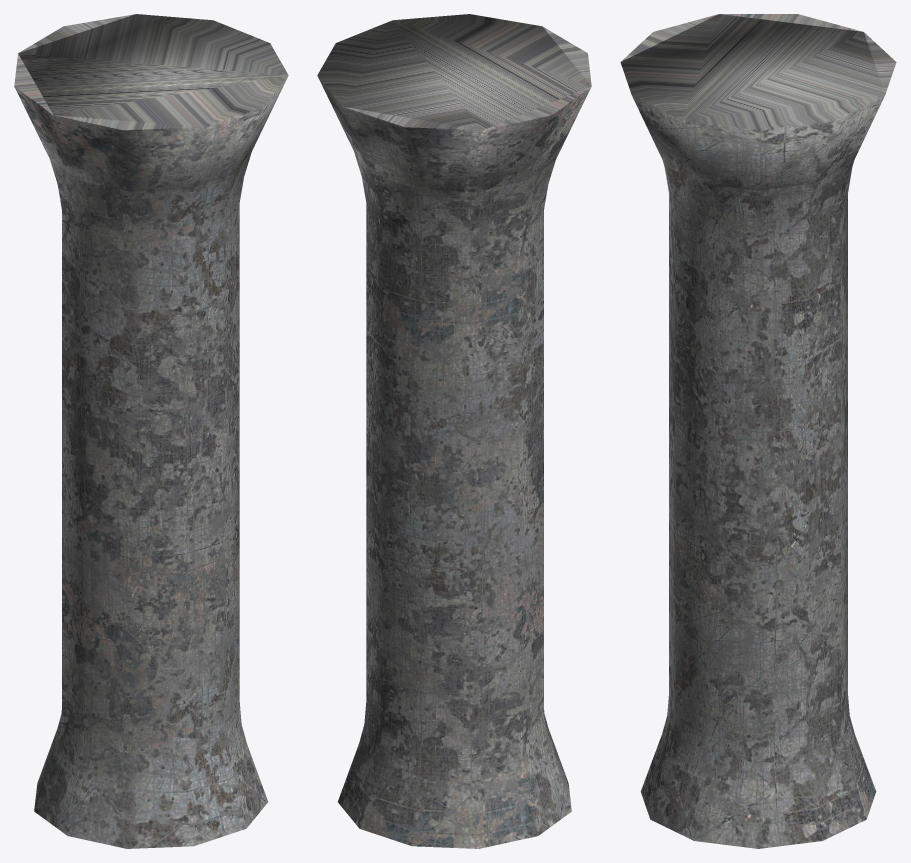
Rendered from Small Industrial Pillar.FBX.
The picture shows the model from 3 angles, left to right: view 1: azimuth 30°, elevation 25°; view 2: azimuth 150°, elevation 25°; view 3: azimuth 270°, elevation 25°; orthographic projection.
Parts seen in each view (by area): view 1: Small Industrial Pillar; view 2: Small Industrial Pillar; view 3: Small Industrial Pillar.
Part boxes in pixels (left/top/right/bottom): Small Industrial Pillar: left=14, top=14, right=288, bottom=848; Small Industrial Pillar: left=317, top=14, right=591, bottom=848; Small Industrial Pillar: left=620, top=14, right=896, bottom=848.
Bounding box in the file's own units: 19.52 × 57.38 × 19.72.
